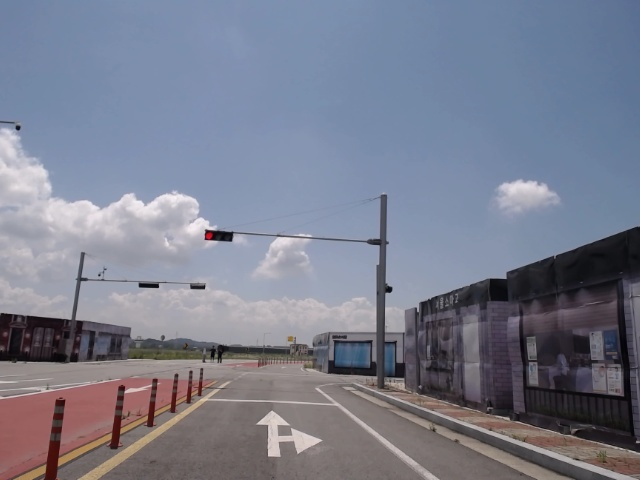red_3: (205, 229, 234, 242)
